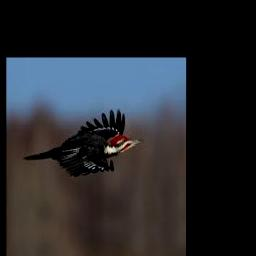Woodpecker: (24, 108, 144, 177)
